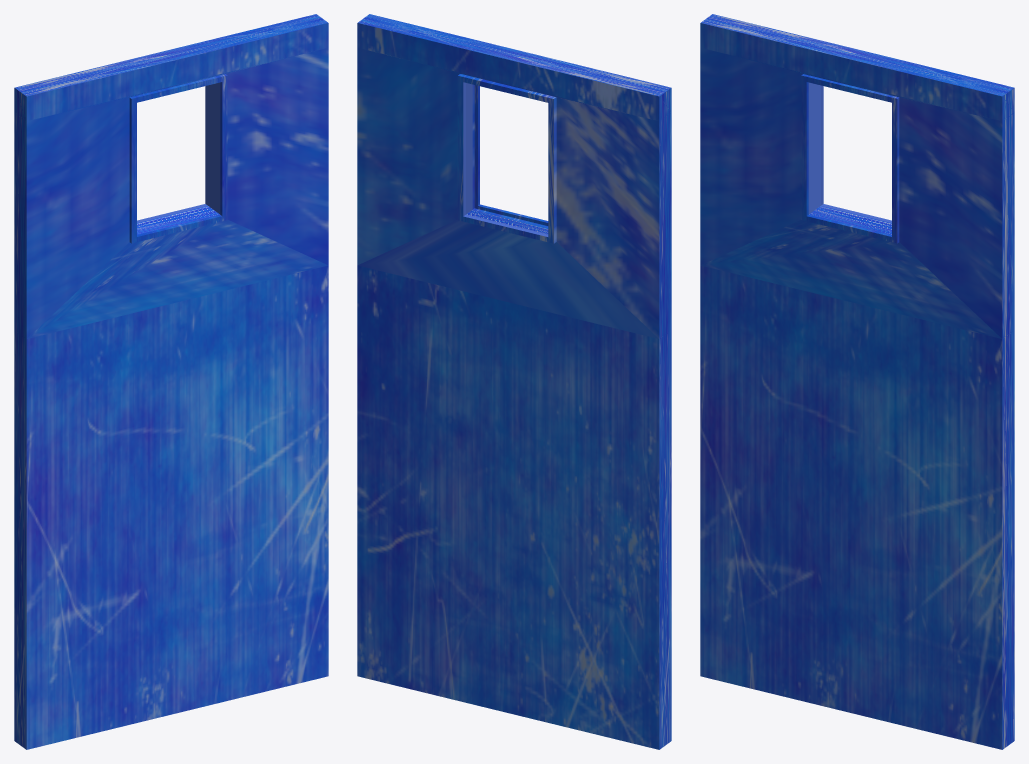
The model's file is Door_metal_V3.fbx.
3 views of the same model, side by side, from view 1: azimuth 30°, elevation 25°; view 2: azimuth 150°, elevation 25°; view 3: azimuth 330°, elevation 25° (orthographic).
Parts seen in each view (by area): view 1: Cube.001; view 2: Cube.001; view 3: Cube.001.
Part boxes in pixels (left/top/right/bottom): Cube.001: left=14, top=14, right=328, bottom=749; Cube.001: left=357, top=14, right=671, bottom=749; Cube.001: left=700, top=14, right=1014, bottom=749.
Size of the model in its own units: 959 by 1983 by 91.85.
Materials: 1 (1 with a texture image).
